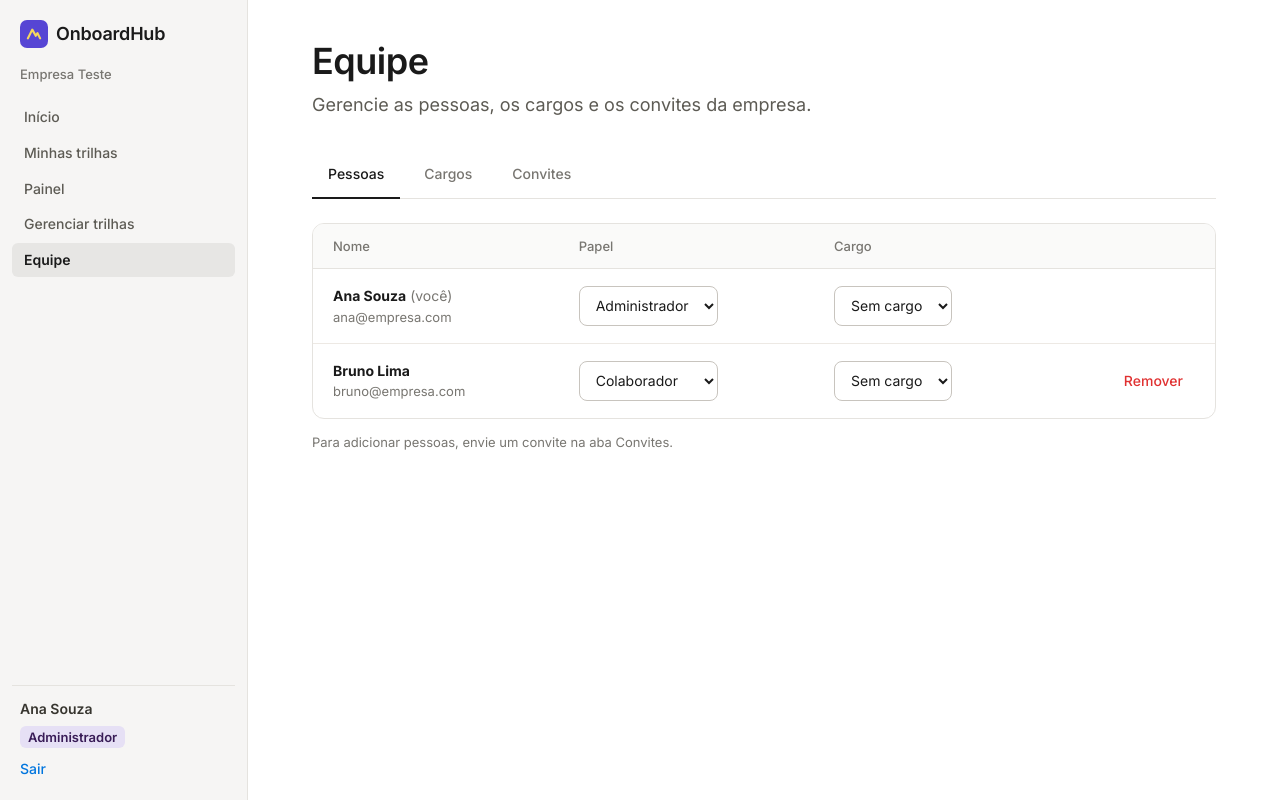
Scenario: equipe: pessoas › remove uma pessoa depois de confirmar
What coordinates should you click on to do the following:
click the button "Remover"
I would click on:
 (1153, 381)
Its box is x1=1112 y1=364 x2=1195 y2=398.
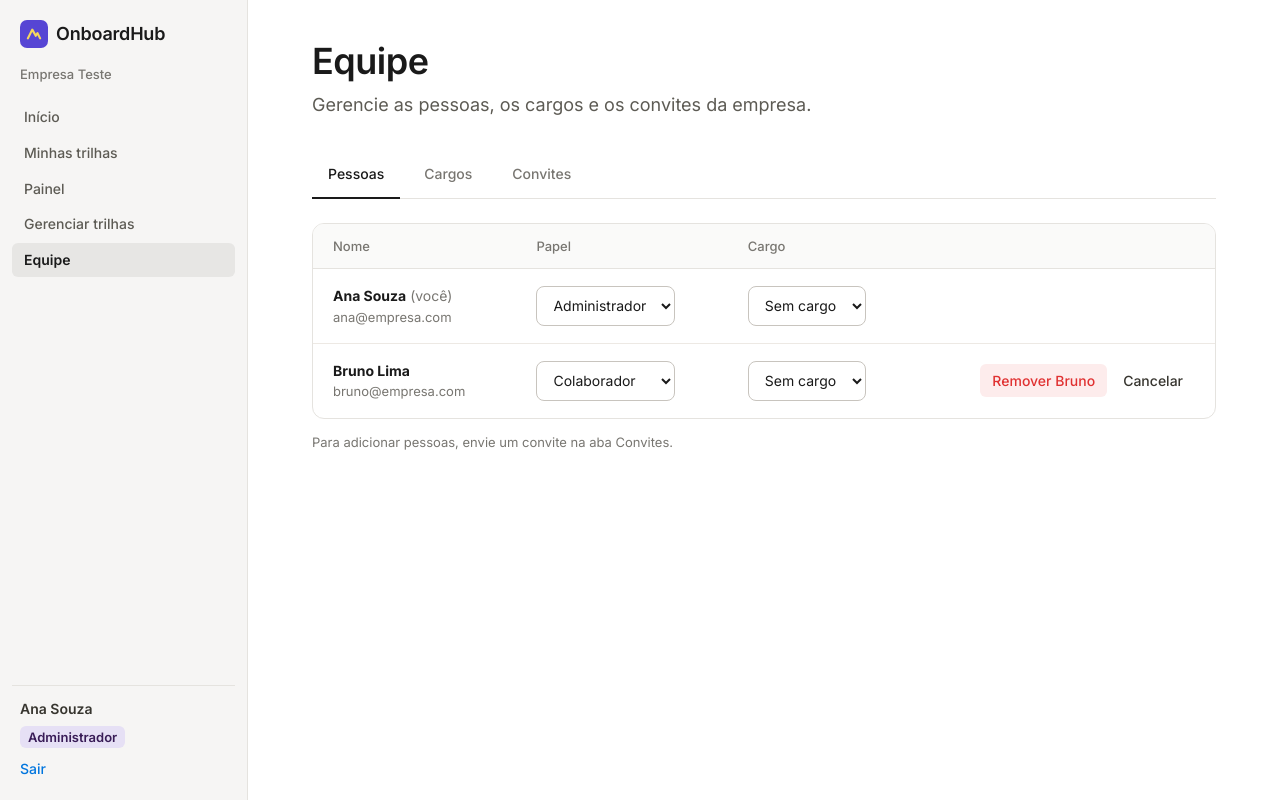
What coordinates should you click on to do the following:
click the button "Remover Bruno"
I would click on:
 (1044, 381)
Its box is x1=980 y1=364 x2=1107 y2=398.
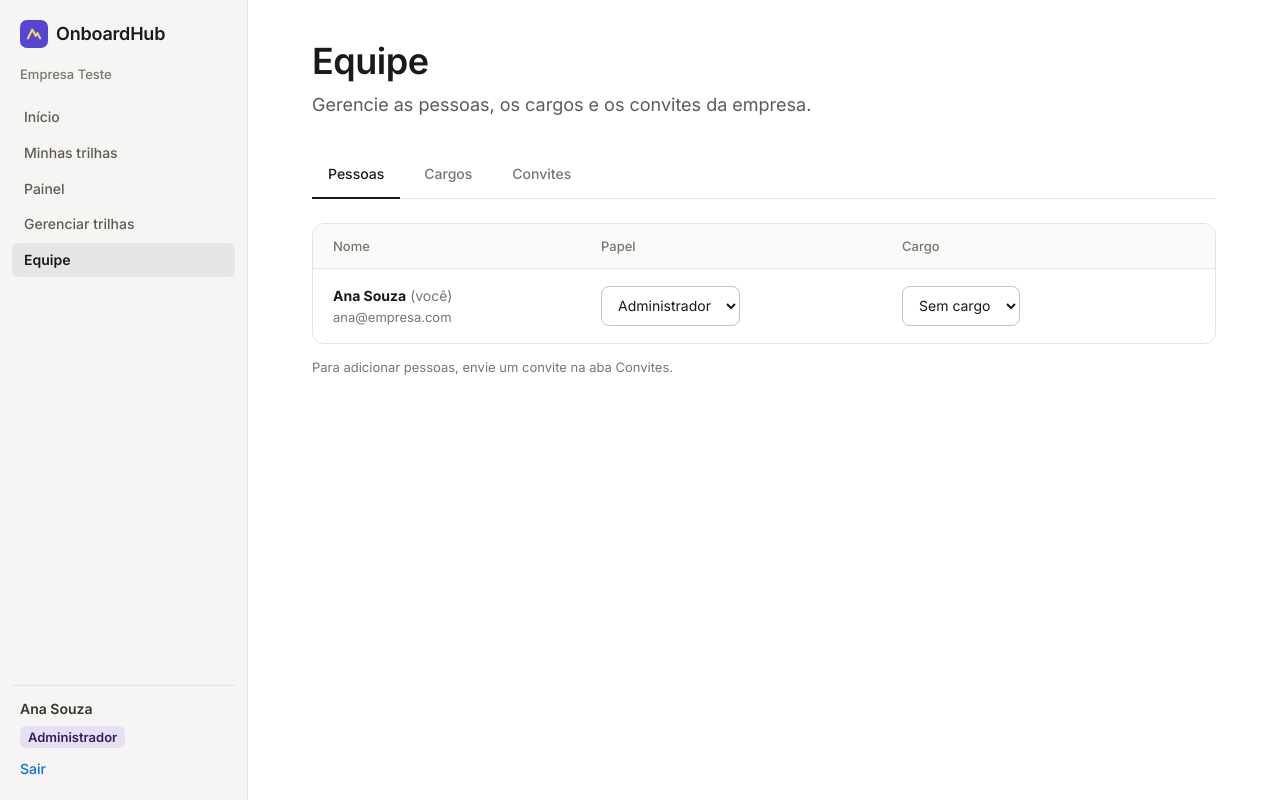
Result: the text "Bruno Lima" is gone
